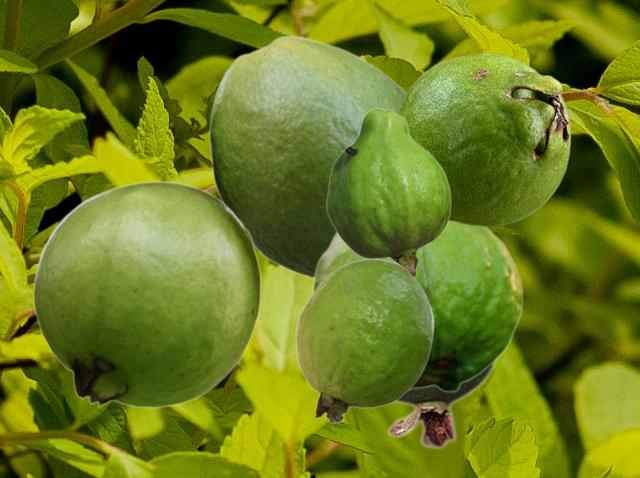guava: (32, 180, 261, 407), (208, 34, 406, 278), (312, 222, 522, 392), (395, 52, 570, 226), (295, 258, 433, 423), (325, 107, 450, 277), (383, 357, 501, 449)
